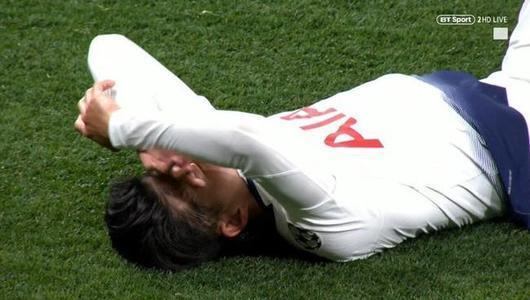Fall-Detected: (56, 2, 530, 288)
